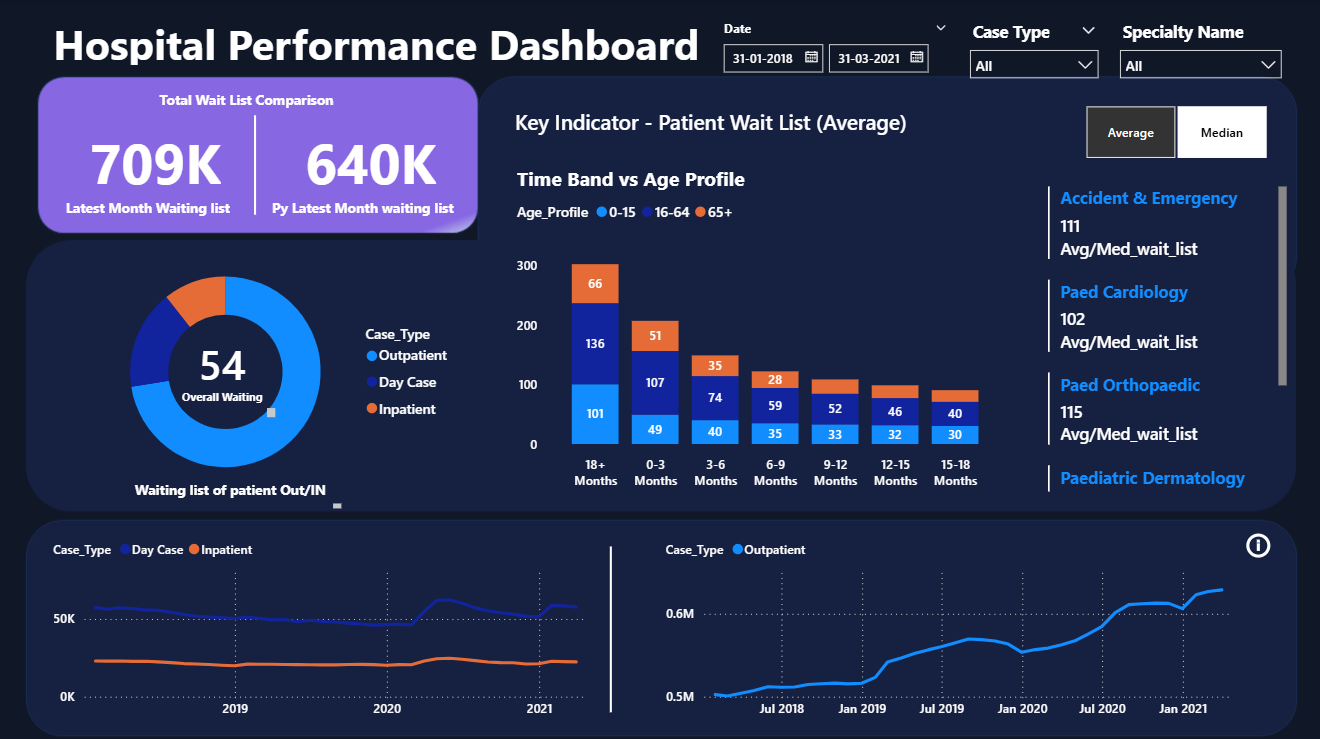

The page's visual inventory and layout, read from the dashboard file:
{"tool":"powerbi","page":{"name":"Summary","canvas":[1280,720],"ordinal":0},"visuals":[{"type":"cardVisual","fields":{"Data":["Table.Latest_month_wait_list"]},"box":[64,96,176,112],"z":0},{"type":"cardVisual","fields":{"Data":["Table.PY_latest_month_waiting_list"]},"box":[256,88,208,128],"z":1000},{"type":"slicer","fields":{"Values":["Calc_method.Calc_method"]},"box":[1024,96,224,64],"z":2000},{"type":"donutChart","fields":{"Category":["All_Data.Case_Type"],"Y":["_Measures.Avg/Med_wait_list"]},"box":[80,240,368,240],"z":3000},{"type":"columnChart","title":"Time Band vs Age Profile","fields":{"Y":["_Measures.Avg/Med_wait_list"],"Category":["All_Data.Time_Bands"],"Series":["All_Data.Age_Profile"]},"box":[496,160,480,320],"z":4000},{"type":"multiRowCard","fields":{"Values":["All_Data.Specialty_Name","_Measures.Avg/Med_wait_list"]},"box":[1008,176,240,304],"z":5000},{"type":"card","fields":{"Values":["_Measures.NoDataRigth"]},"box":[752,528,304,160],"z":6000},{"type":"card","fields":{"Values":["_Measures.NoDataLeft"]},"box":[144,528,304,160],"z":7000},{"type":"lineChart","fields":{"Category":["All_Data.Archive_Date"],"Y":["Sum(All_Data.Total)"],"Series":["All_Data.Case_Type"]},"box":[48,512,528,192],"z":8000},{"type":"lineChart","fields":{"Category":["All_Data.Archive_Date"],"Y":["Sum(All_Data.Total)"],"Series":["All_Data.Case_Type"]},"box":[640,512,560,192],"z":9000},{"type":"slicer","fields":{"Values":["All_Data.Archive_Date"]},"box":[688,16,240,64],"z":10000},{"type":"slicer","fields":{"Values":["All_Data.Case_Type"]},"box":[928,16,144,96],"z":11000},{"type":"slicer","fields":{"Values":["All_Data.Specialty_Name"]},"box":[1072,16,176,96],"z":12000},{"type":"textbox","title":"Hospital Performance Dashboard","box":[48,16,640,48],"z":13000},{"type":"shape","box":[576,528,32,160],"z":14000},{"type":"textbox","title":"Py Latest Month waiting list  ","box":[240,192,224,24],"z":15000},{"type":"textbox","title":"Latest Month Waiting list","box":[32,192,224,24],"z":16000},{"type":"shape","box":[240,112,16,96],"z":17000},{"type":"textbox","title":"Waiting list of patient Out/IN","box":[112,464,224,32],"z":18000},{"type":"card","title":"Overall","fields":{"Values":["_Measures.Avg/Med_wait_list"]},"box":[184,328,64,48],"z":19000},{"type":"textbox","title":"Overall Waiting","box":[160,376,112,32],"z":20000},{"type":"card","fields":{"Values":["_Measures.avg/median_indicator"]},"box":[480,96,416,48],"z":21000},{"type":"actionButton","box":[1200,512,48,32],"z":22000},{"type":"textbox","title":"Total Wait List Comparison","box":[128,88,224,24],"z":22001}]}

Visuals, with their boxes in screenshot pixels (x1, y1, x2, y2), scaled from the page's 1280x720 canvas onto the 1320x739 screenshot:
cardVisual - Table.Latest_month_wait_list: (66, 99, 248, 213)
cardVisual - Table.PY_latest_month_waiting_list: (264, 90, 478, 222)
slicer - Calc_method.Calc_method: (1056, 99, 1287, 164)
donutChart - All_Data.Case_Type x _Measures.Avg/Med_wait_list: (82, 246, 462, 493)
"Time Band vs Age Profile" columnChart: (512, 164, 1006, 493)
multiRowCard - All_Data.Specialty_Name x _Measures.Avg/Med_wait_list: (1040, 181, 1287, 493)
card - _Measures.NoDataRigth: (776, 542, 1089, 706)
card - _Measures.NoDataLeft: (148, 542, 462, 706)
lineChart - All_Data.Archive_Date x Sum(All_Data.Total): (50, 526, 594, 723)
lineChart - All_Data.Archive_Date x Sum(All_Data.Total): (660, 526, 1238, 723)
slicer - All_Data.Archive_Date: (710, 16, 957, 82)
slicer - All_Data.Case_Type: (957, 16, 1106, 115)
slicer - All_Data.Specialty_Name: (1106, 16, 1287, 115)
"Hospital Performance Dashboard" textbox: (50, 16, 710, 66)
shape: (594, 542, 627, 706)
"Py Latest Month waiting list  " textbox: (248, 197, 478, 222)
"Latest Month Waiting list" textbox: (33, 197, 264, 222)
shape: (248, 115, 264, 213)
"Waiting list of patient Out/IN" textbox: (116, 476, 346, 509)
"Overall" card: (190, 337, 256, 386)
"Overall Waiting" textbox: (165, 386, 280, 419)
card - _Measures.avg/median_indicator: (495, 99, 924, 148)
actionButton: (1238, 526, 1287, 558)
"Total Wait List Comparison" textbox: (132, 90, 363, 115)
